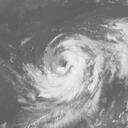cyclone: (41, 31, 105, 92)
